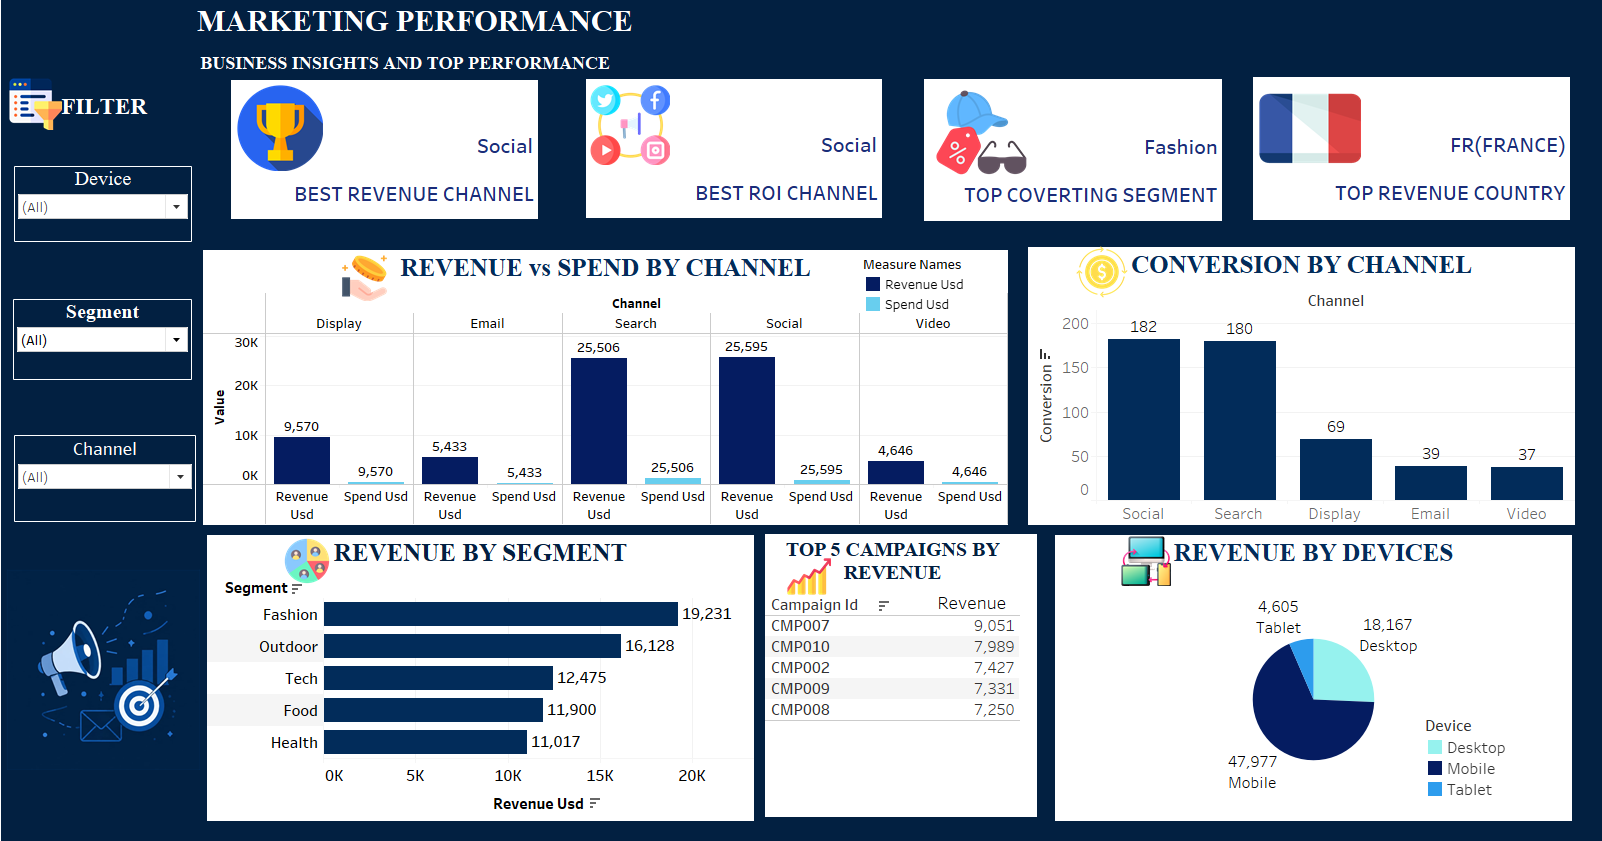

The page's visual inventory and layout, read from the dashboard file:
{"tool":"tableau","page":{"name":"Dashboard 1","canvas":[1000,1000],"units":"permille","ordinal":0},"visuals":[{"type":"title","box":[4.9,10,990.1,39.9]},{"type":"image","param":"Image/filter (1).png","box":[9.9,29.9,42,67.3]},{"type":"text","box":[15.4,34.9,82.1,58.6]},{"type":"text","box":[107.4,41.1,883.3,33.7]},{"type":"worksheet","title":"Sheet 6","mark":"Automatic","box":[849.4,68.6,130.9,167.1]},{"type":"worksheet","title":"Sheet 5","mark":"Automatic","box":[703.1,69.8,124.1,168.3]},{"type":"worksheet","title":"Sheet 4","mark":"Automatic","box":[553.1,73.6,127.8,165.8]},{"type":"image","param":"Image/cursor (2).png","box":[553.7,74.8,57.4,94.8]},{"type":"image","param":"Image/target.png","box":[851.2,76.1,42,103.5]},{"type":"worksheet","title":"Sheet 3","mark":"Automatic","box":[406.2,77.3,127.2,160.8]},{"type":"worksheet","title":"Sheet 1","mark":"Automatic","box":[129.6,78.5,124.7,158.3]},{"type":"worksheet","title":"Sheet 2","mark":"Automatic","box":[267.3,79.8,124.7,158.3]},{"type":"image","param":"Image/percentage (1).png","box":[706.8,81,61.7,96]},{"type":"image","param":"Image/wallet.png","box":[270.4,83.5,54.9,83.5]},{"type":"image","param":"Image/roi.png","box":[408.6,83.5,54.3,96]},{"type":"image","param":"Image/bar-chart.png","box":[410.5,83.5,67.9,87.3]},{"type":"image","param":"Image/dollar-sign (2).png","box":[132.1,84.8,54.3,93.5]},{"type":"image","param":"Image/revenue.png","box":[133.3,86,55.6,93.5]},{"type":"filter","title":"Sheet 7","param":"[federated.1ct586s1gfhmox1gll9d407dz4eg].[none:channel:nk]","box":[4.3,112.2,124.1,79.8]},{"type":"filter","title":"Sheet 9","param":"[federated.1ct586s1gfhmox1gll9d407dz4eg].[none:segment:nk]","box":[3.7,228.2,124.1,64.8]},{"type":"worksheet","title":"Sheet 7","mark":"Automatic","rows":["Calculation_756041798222548992"],"cols":["channel"],"box":[131.5,255.6,314.8,327.9]},{"type":"worksheet","title":"Sheet 9","mark":"Automatic","rows":["Calculation_756041798223523844"],"cols":["segment"],"box":[731.5,255.6,248.8,324.2]},{"type":"worksheet","title":"Sheet 10","mark":"Automatic","rows":["Calculation_756041798223437827"],"cols":["device"],"box":[448.2,256.9,280.9,324.2]},{"type":"image","param":"Image/growth.png","box":[169.8,261.9,66.7,68.6]},{"type":"image","param":"Image/bar-chart (1).png","box":[480.2,261.9,45.7,74.8]},{"type":"image","param":"Image/responsive-design.png","box":[488.9,263.1,57.4,72.3]},{"type":"image","param":"Image/pie-chart.png","box":[734.6,271.8,43.2,73.6]},{"type":"text","box":[640.7,335.4,61.7,37.4]},{"type":"image","param":"Image/demographic.png","box":[464.8,364.1,84.6,139.7]},{"type":"filter","title":"Sheet 10","param":"[federated.1ct586s1gfhmox1gll9d407dz4eg].[none:device:nk]","box":[6.2,370.3,121.6,62.3]},{"type":"filter","title":"Sheet 11","param":"[federated.1ct586s1gfhmox1gll9d407dz4eg].[none:country:nk]","box":[7.4,473.8,120.4,59.9]},{"type":"image","param":"Image/web.png","box":[33.3,476.3,13.6,32.4]},{"type":"worksheet","title":"Sheet 8","mark":"Automatic","rows":["channel"],"cols":["Calculation_756041798223163394"],"box":[130.9,588.5,415.4,397.8]},{"type":"worksheet","title":"Sheet 11","mark":"Automatic","box":[550.6,591,432.7,396.5]},{"type":"image","param":"Image/world.png","box":[665.4,591,28.4,52.4]},{"type":"image","param":"Image/rising.png","box":[250,594.8,51.9,73.6]},{"type":"legend","title":"Sheet 11","param":"[federated.1ct586s1gfhmox1gll9d407dz4eg].[sum:revenue_usd:qk]","box":[843.2,594.8,138.3,46.1]},{"type":"image","param":"Image/cash-flow.png","box":[666.7,595.3,23.5,44.1]},{"type":"image","param":"Image/share.png","box":[236.4,608.5,37,62.3]},{"type":"image","param":"Image/Screenshot 2026-06-14 105338.png","box":[12.3,614.7,113,350.4]}]}

Visuals, with their boxes on the dashboard's canvas, which has no fixed pixel size, in thousandths of its width and height (x1, y1, x2, y2). These are canvas units, not pixel positions in the 1602x841 screenshot, which may show the page scaled, cropped or inside an application window:
title: bbox(5, 10, 995, 50)
image: bbox(10, 30, 52, 97)
text: bbox(15, 35, 98, 94)
text: bbox(107, 41, 991, 75)
"Sheet 6" worksheet: bbox(849, 69, 980, 236)
"Sheet 5" worksheet: bbox(703, 70, 827, 238)
"Sheet 4" worksheet: bbox(553, 74, 681, 239)
image: bbox(554, 75, 611, 170)
image: bbox(851, 76, 893, 180)
"Sheet 3" worksheet: bbox(406, 77, 533, 238)
"Sheet 1" worksheet: bbox(130, 78, 254, 237)
"Sheet 2" worksheet: bbox(267, 80, 392, 238)
image: bbox(707, 81, 768, 177)
image: bbox(270, 84, 325, 167)
image: bbox(409, 84, 463, 180)
image: bbox(410, 84, 478, 171)
image: bbox(132, 85, 186, 178)
image: bbox(133, 86, 189, 180)
"Sheet 7" filter: bbox(4, 112, 128, 192)
"Sheet 9" filter: bbox(4, 228, 128, 293)
"Sheet 7" worksheet: bbox(132, 256, 446, 584)
"Sheet 9" worksheet: bbox(732, 256, 980, 580)
"Sheet 10" worksheet: bbox(448, 257, 729, 581)
image: bbox(170, 262, 236, 330)
image: bbox(480, 262, 526, 337)
image: bbox(489, 263, 546, 335)
image: bbox(735, 272, 778, 345)
text: bbox(641, 335, 702, 373)
image: bbox(465, 364, 549, 504)
"Sheet 10" filter: bbox(6, 370, 128, 433)
"Sheet 11" filter: bbox(7, 474, 128, 534)
image: bbox(33, 476, 47, 509)
"Sheet 8" worksheet: bbox(131, 588, 546, 986)
"Sheet 11" worksheet: bbox(551, 591, 983, 988)
image: bbox(665, 591, 694, 643)
image: bbox(250, 595, 302, 668)
"Sheet 11" legend: bbox(843, 595, 982, 641)
image: bbox(667, 595, 690, 639)
image: bbox(236, 608, 273, 671)
image: bbox(12, 615, 125, 965)
